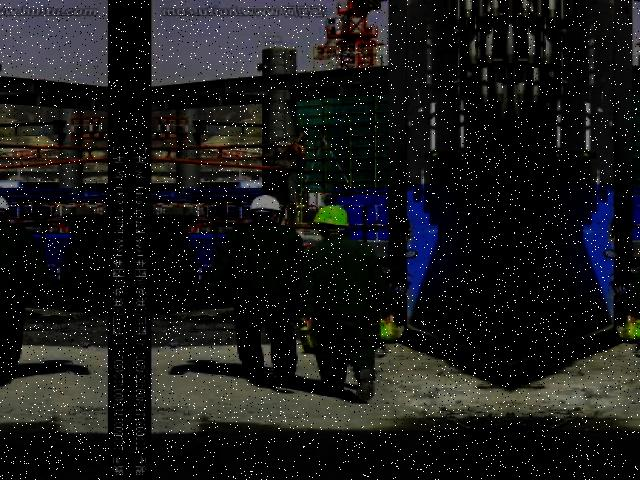Helmet: (313, 200, 357, 234), (247, 190, 290, 216)
